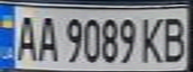0: (81, 15, 103, 64)
8: (100, 15, 121, 64)
9: (115, 15, 142, 64), (60, 14, 84, 63)
A: (12, 11, 39, 62), (33, 12, 60, 63)
B: (160, 12, 190, 64)
K: (136, 14, 166, 63)
